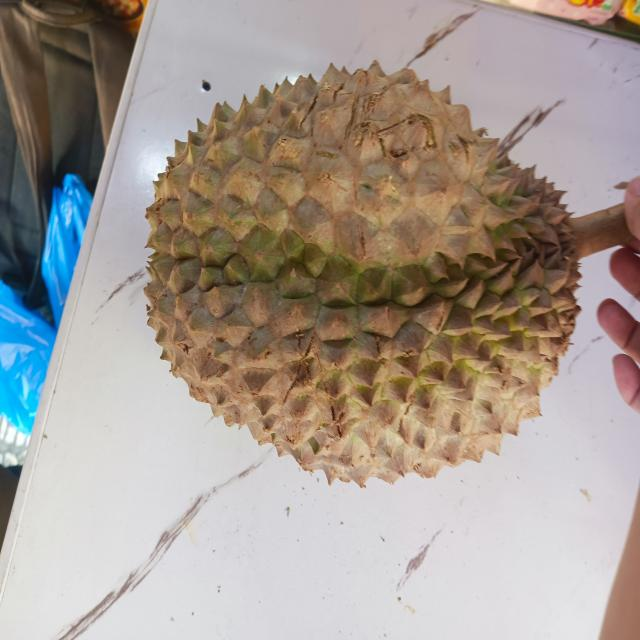mature: (145, 62, 579, 487)
